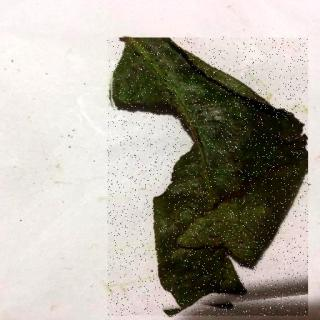Red Leaf Spot: (109, 39, 309, 318)
